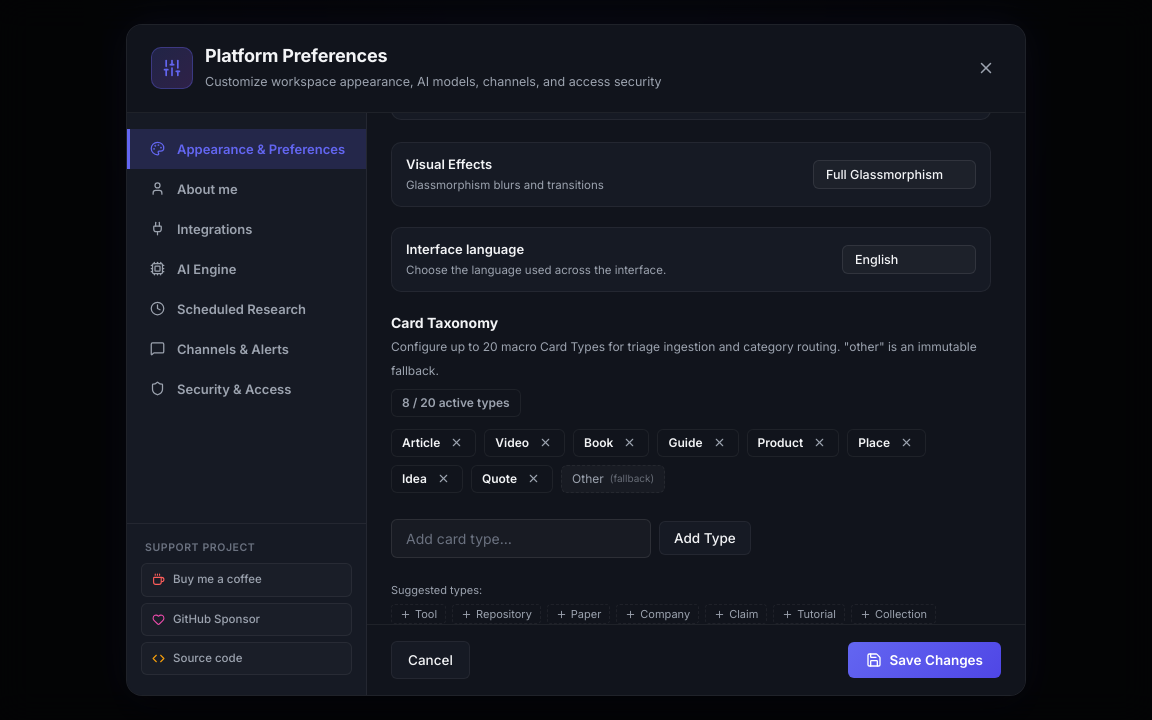
Card Taxonomy Management in Platform Preferences › resolves localized aliases when adding card types and renders suggestion chips
(page scrolled)
Expected: the text "8 / 20 active types" is shown, x1=391 y1=389 x2=521 y2=417
Expected: the button with aria-label "Add Tool" is shown, x1=391 y1=604 x2=446 y2=624
Type Spanish alias "Herramienta" into input
Type "Herramienta" into the field named "New card type". click: (521, 538)
box: x1=391 y1=519 x2=651 y2=558
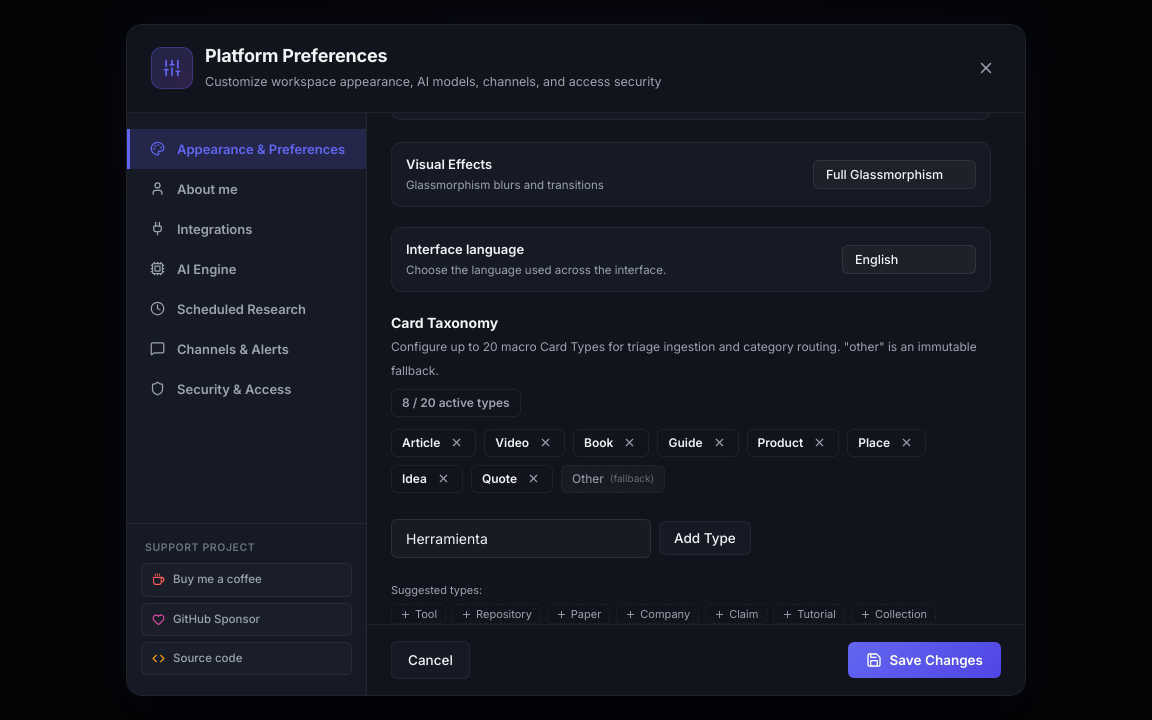
Click the button "Add Type". click: (705, 538)
box: x1=659 y1=521 x2=751 y2=555
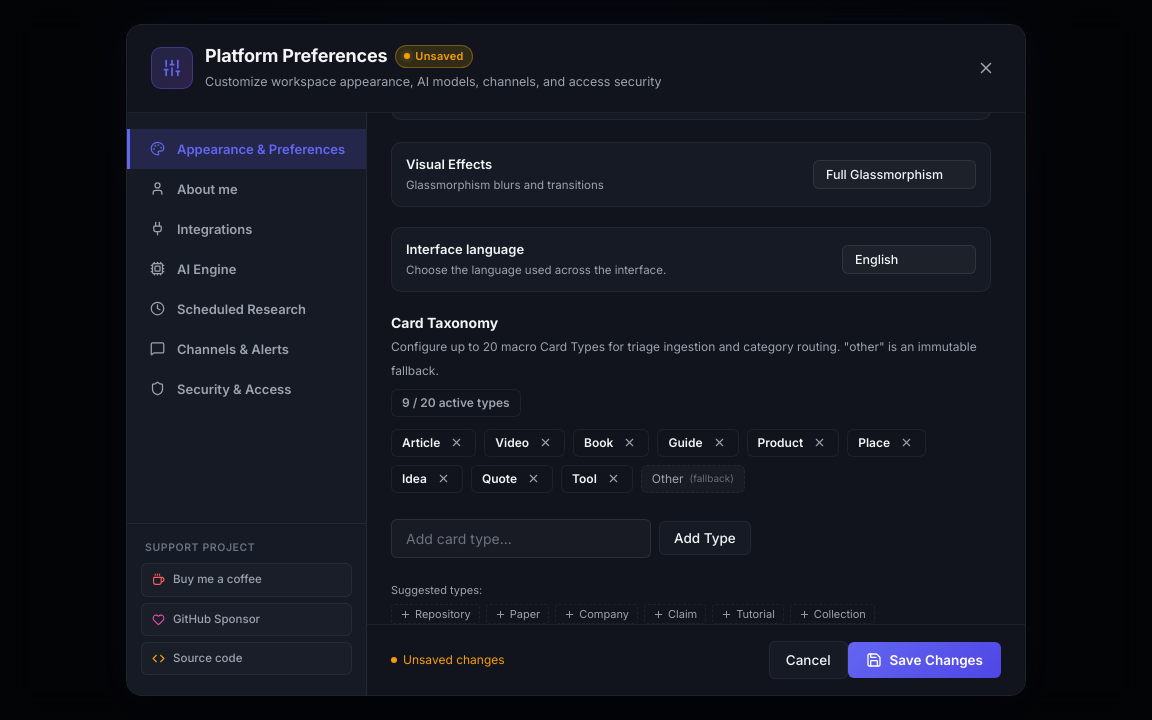
Expected: the text "Tool" is shown, x1=572 y1=470 x2=597 y2=488
Expected: the text "9 / 20 active types" is shown, x1=391 y1=389 x2=521 y2=417
Click quick-add suggestion chip for "Paper"
Click the button with aria-label "Add Paper". click: (517, 614)
box: x1=486 y1=604 x2=549 y2=624
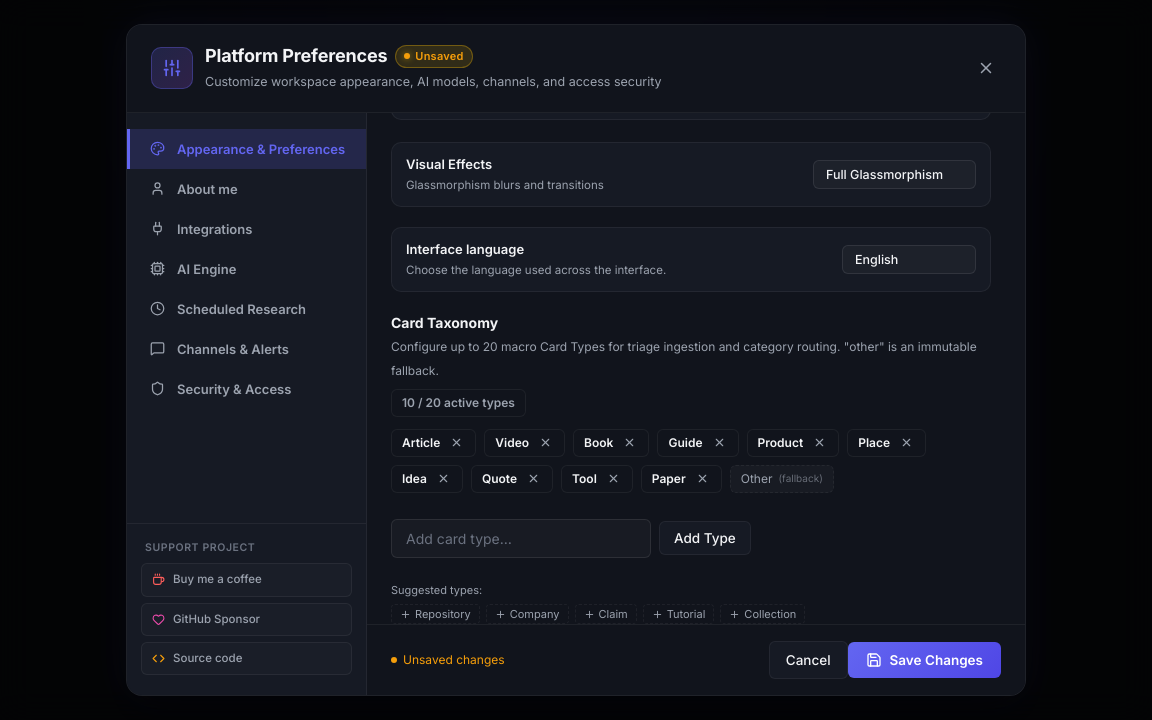
Expected: the text "Paper" is shown, x1=652 y1=470 x2=686 y2=488
Expected: the text "10 / 20 active types" is shown, x1=391 y1=389 x2=526 y2=417
